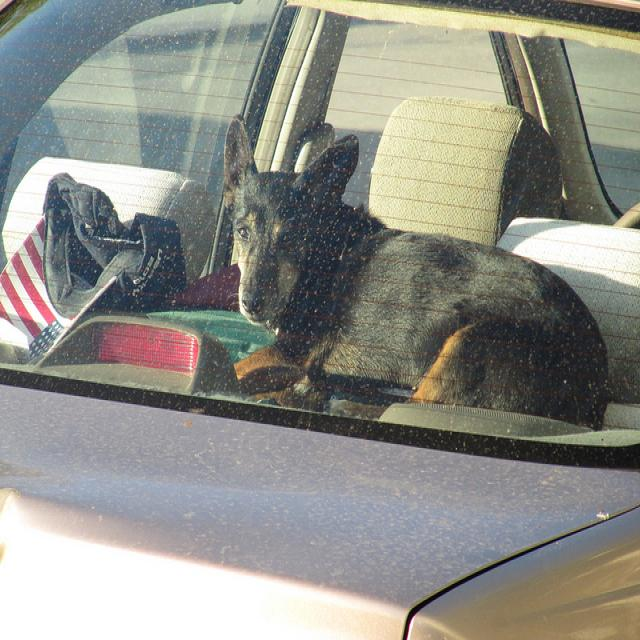Vehicle: (2, 6, 631, 633)
